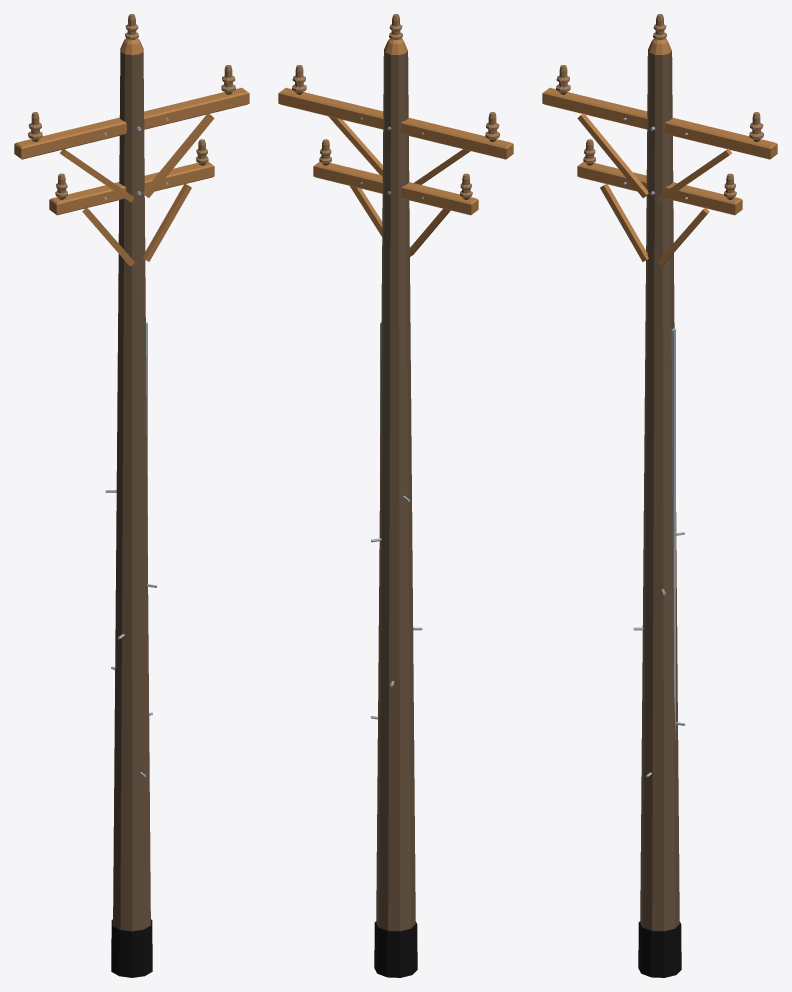
Rendered from UTILITY_01.obj.
3 renders of one model, left to right at view 1: azimuth 30°, elevation 25°; view 2: azimuth 150°, elevation 25°; view 3: azimuth 330°, elevation 25°, orthographic.
Parts seen in each view (by area): view 1: UTILITY_01__pole, UTILITY_01__crossarm_upper, UTILITY_01__crossarm_lower, UTILITY_01__ground_sleeve, UTILITY_01__brace_upper, UTILITY_01__brace_lower, UTILITY_01__insulator_upper; view 2: UTILITY_01__pole, UTILITY_01__crossarm_upper, UTILITY_01__crossarm_lower, UTILITY_01__ground_sleeve, UTILITY_01__brace_upper, UTILITY_01__brace_lower, UTILITY_01__insulator_upper; view 3: UTILITY_01__pole, UTILITY_01__crossarm_upper, UTILITY_01__crossarm_lower, UTILITY_01__ground_sleeve, UTILITY_01__brace_upper, UTILITY_01__ground_wire_staple, UTILITY_01__brace_lower, UTILITY_01__insulator_upper.
Boxes of the visible parts, <box> form: UTILITY_01__pole: <box>113,52,150,931</box>; UTILITY_01__crossarm_upper: <box>14,87,249,159</box>; UTILITY_01__crossarm_lower: <box>49,161,214,215</box>; UTILITY_01__ground_sleeve: <box>111,919,152,977</box>; UTILITY_01__brace_upper: <box>60,113,214,202</box>; UTILITY_01__brace_lower: <box>82,183,191,266</box>; UTILITY_01__insulator_upper: <box>28,65,235,141</box>; UTILITY_01__pole: <box>376,50,415,931</box>; UTILITY_01__crossarm_upper: <box>278,87,513,159</box>; UTILITY_01__crossarm_lower: <box>313,161,478,215</box>; UTILITY_01__ground_sleeve: <box>374,921,417,977</box>; UTILITY_01__brace_upper: <box>328,116,470,184</box>; UTILITY_01__brace_lower: <box>350,186,450,256</box>; UTILITY_01__insulator_upper: <box>292,65,499,141</box>; UTILITY_01__pole: <box>640,50,679,931</box>; UTILITY_01__crossarm_upper: <box>542,87,777,159</box>; UTILITY_01__crossarm_lower: <box>577,161,742,215</box>; UTILITY_01__ground_sleeve: <box>638,921,681,977</box>; UTILITY_01__brace_upper: <box>577,113,731,202</box>; UTILITY_01__ground_wire_staple: <box>671,328,675,738</box>; UTILITY_01__brace_lower: <box>600,183,709,266</box>; UTILITY_01__insulator_upper: <box>556,65,763,141</box>.
Size of the model in its own units: 2.6 by 10.38 by 0.5082.
